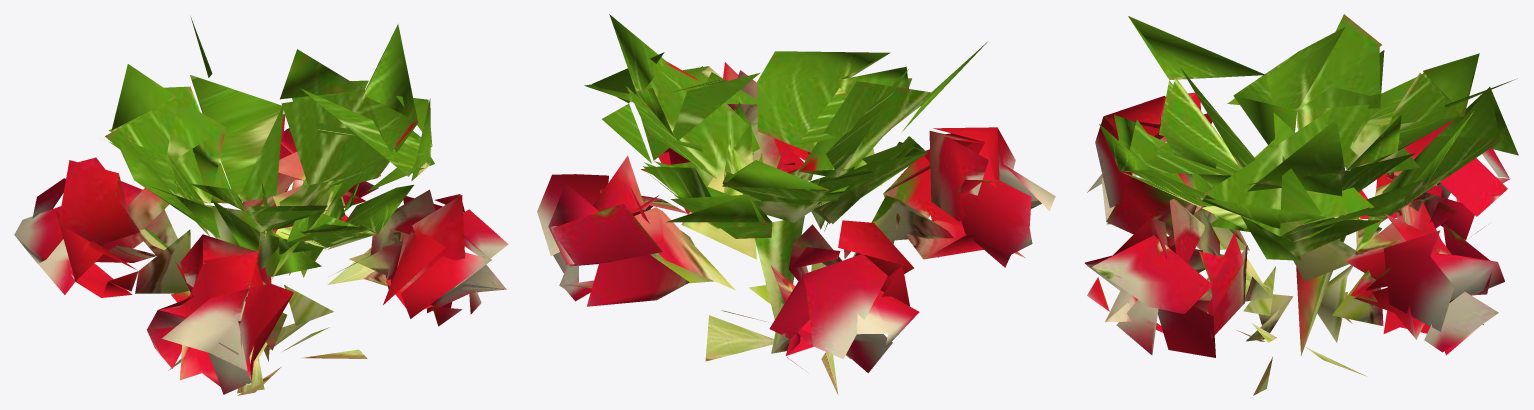
The model's file is crop-radish.lod1.glb.
3 views of the same model, side by side, from view 1: azimuth 30°, elevation 25°; view 2: azimuth 150°, elevation 25°; view 3: azimuth 270°, elevation 25° (orthographic). The views are drawn at different scales.
Visible parts, largest first — view 1: fruit.001, plant.001; view 2: fruit.001, plant.001; view 3: plant.001, fruit.001.
Part boxes in pixels (x1,y1,x2,y2): fruit.001: [14, 114, 508, 395]; plant.001: [105, 16, 434, 361]; fruit.001: [537, 62, 1055, 394]; plant.001: [584, 14, 987, 319]; plant.001: [1099, 14, 1518, 355]; fruit.001: [1085, 92, 1510, 395].
Bounding box in the file's own units: 0.2972 × 0.242 × 0.2937.
Materials: 1 (1 with a texture image).
